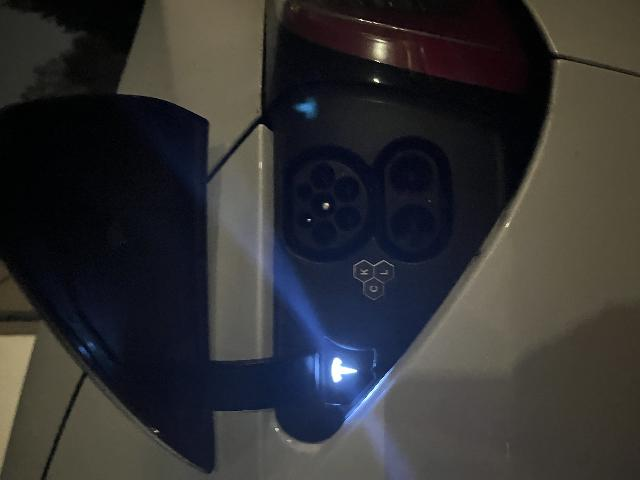inlet: (230, 292, 320, 367)
inlet-above-left: (251, 297, 269, 314)
inlet-above-right: (280, 296, 298, 311)
inlet-below-left: (248, 334, 275, 361)
inlet-below-right: (277, 334, 304, 359)
inlet-circle: (262, 311, 288, 335)
inlet-circle-left: (235, 313, 259, 337)
inlet-circle-right: (290, 311, 317, 335)
inlet-minus: (283, 389, 325, 432)
inlet-plus: (234, 390, 277, 435)
